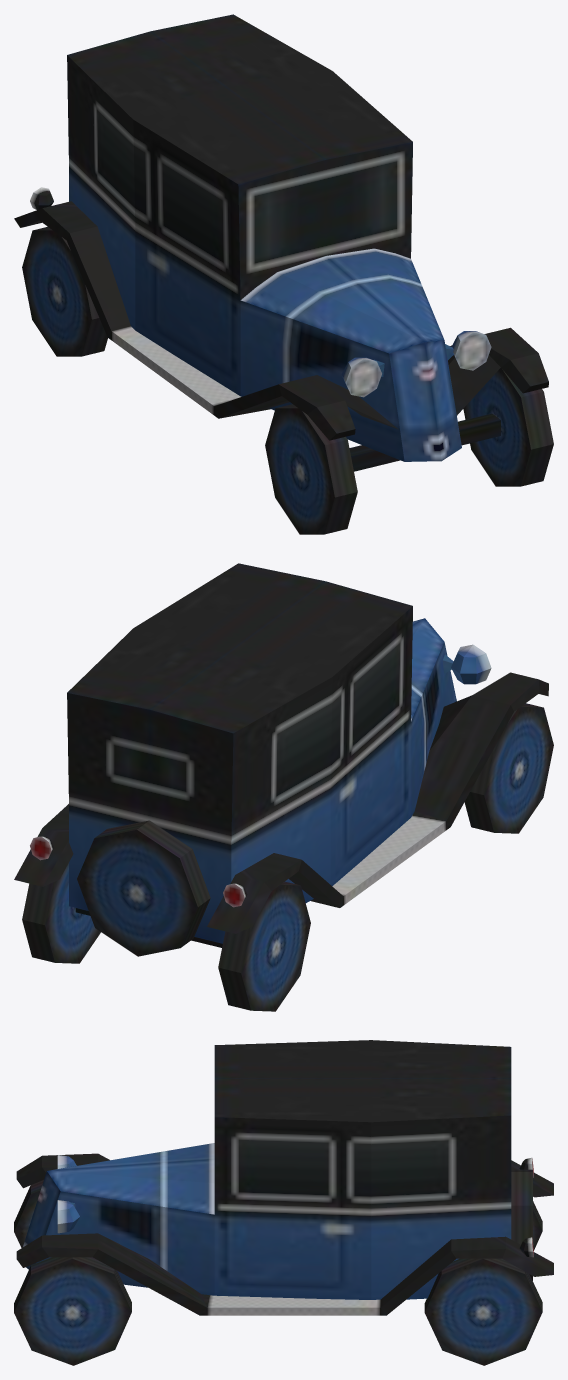
The model's file is vehicle.vintage.glb.
The picture shows the model from 3 angles, top to bottom: view 1: azimuth 30°, elevation 25°; view 2: azimuth 150°, elevation 25°; view 3: azimuth 270°, elevation 25°; orthographic projection. The views are drawn at different scales.
Visible parts, largest first — view 1: Car7; view 2: Car7; view 3: Car7.
Part boxes in pixels (x1,y1,x2,y2): Car7: [14, 14, 553, 534]; Car7: [14, 563, 553, 1011]; Car7: [14, 1040, 553, 1365].
Size of the model in its own units: 1.64 by 1.93 by 3.9.
1 material, 1 textured.
